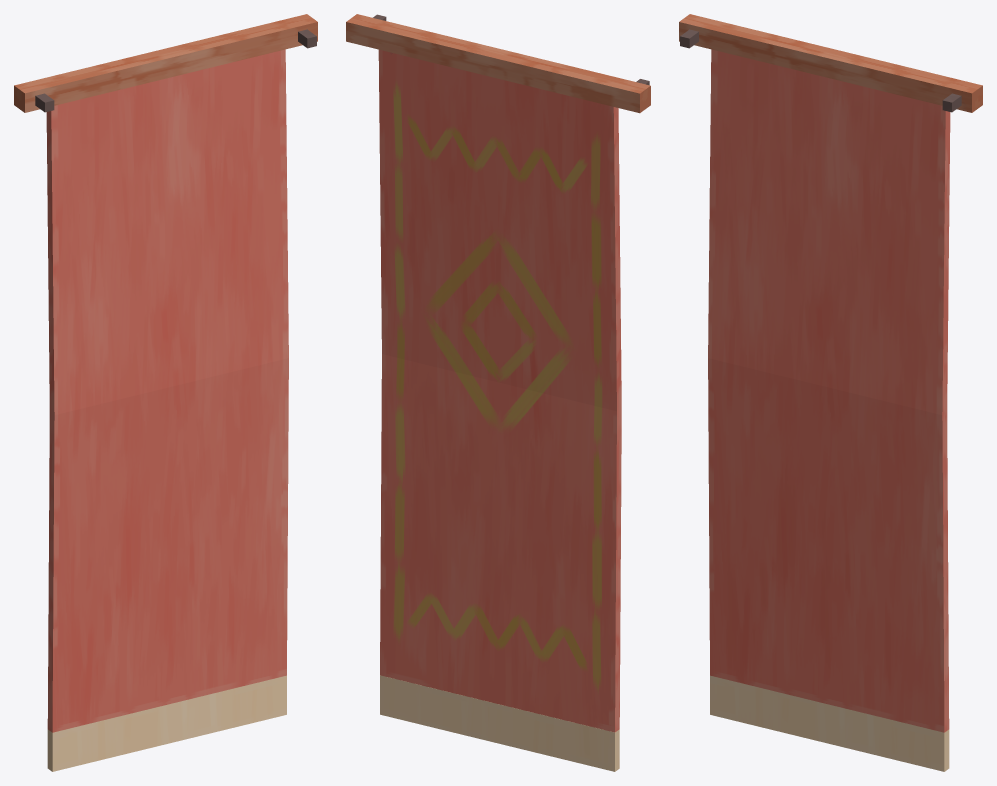
File: banner_low.fbx
3 views of the same model, side by side, from view 1: azimuth 30°, elevation 25°; view 2: azimuth 150°, elevation 25°; view 3: azimuth 330°, elevation 25° (orthographic).
Parts seen in each view (by area): view 1: banner; view 2: banner; view 3: banner.
Part boxes in pixels (x1,y1,x2,y2): banner: (14,14,317,771); banner: (346,14,650,771); banner: (679,14,982,771).
Size of the model in its own units: 2.5 by 5.6 by 0.3.
Materials: 1 (1 with a texture image).
